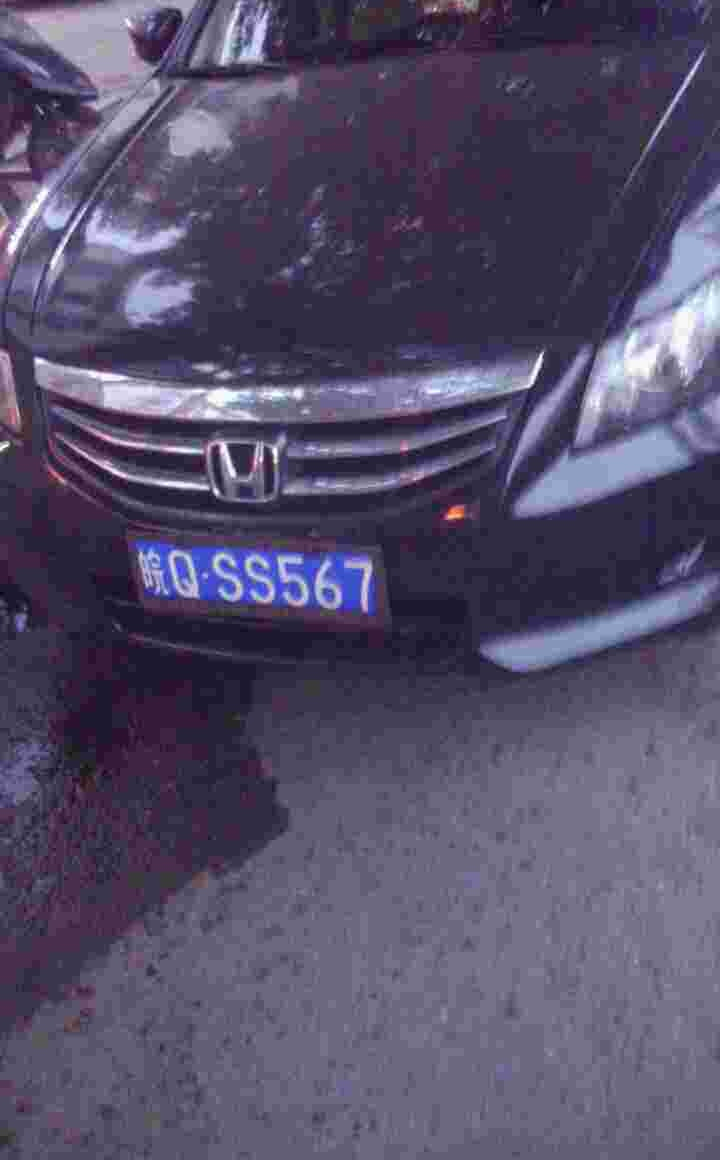plate: (124, 530, 396, 628)
